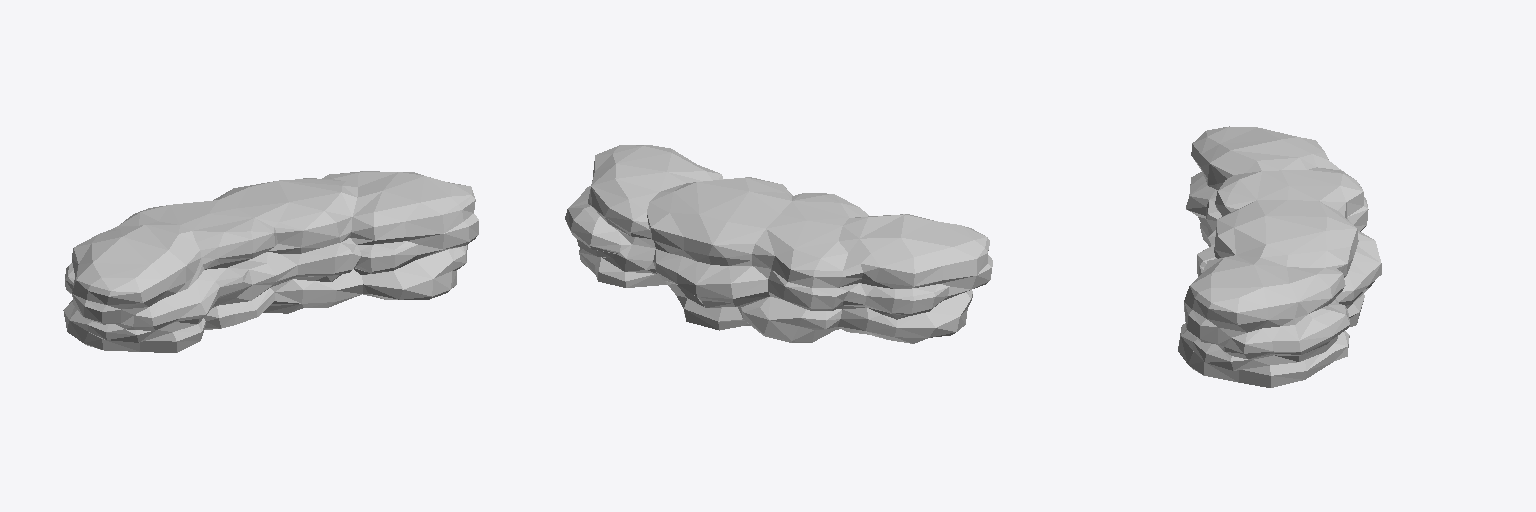
File: rocks1.obj
The picture shows the model from 3 angles: view 1: azimuth 30°, elevation 25°; view 2: azimuth 150°, elevation 25°; view 3: azimuth 270°, elevation 25°; orthographic projection.
Visible parts, largest first — view 1: (null); view 2: (null); view 3: (null).
Boxes of the visible parts, box(x1,y1,x2,y2) form: (null): box(63, 171, 478, 352); (null): box(565, 145, 992, 343); (null): box(1178, 126, 1381, 387).
Size of the model in its own units: 198 by 50.55 by 88.69.